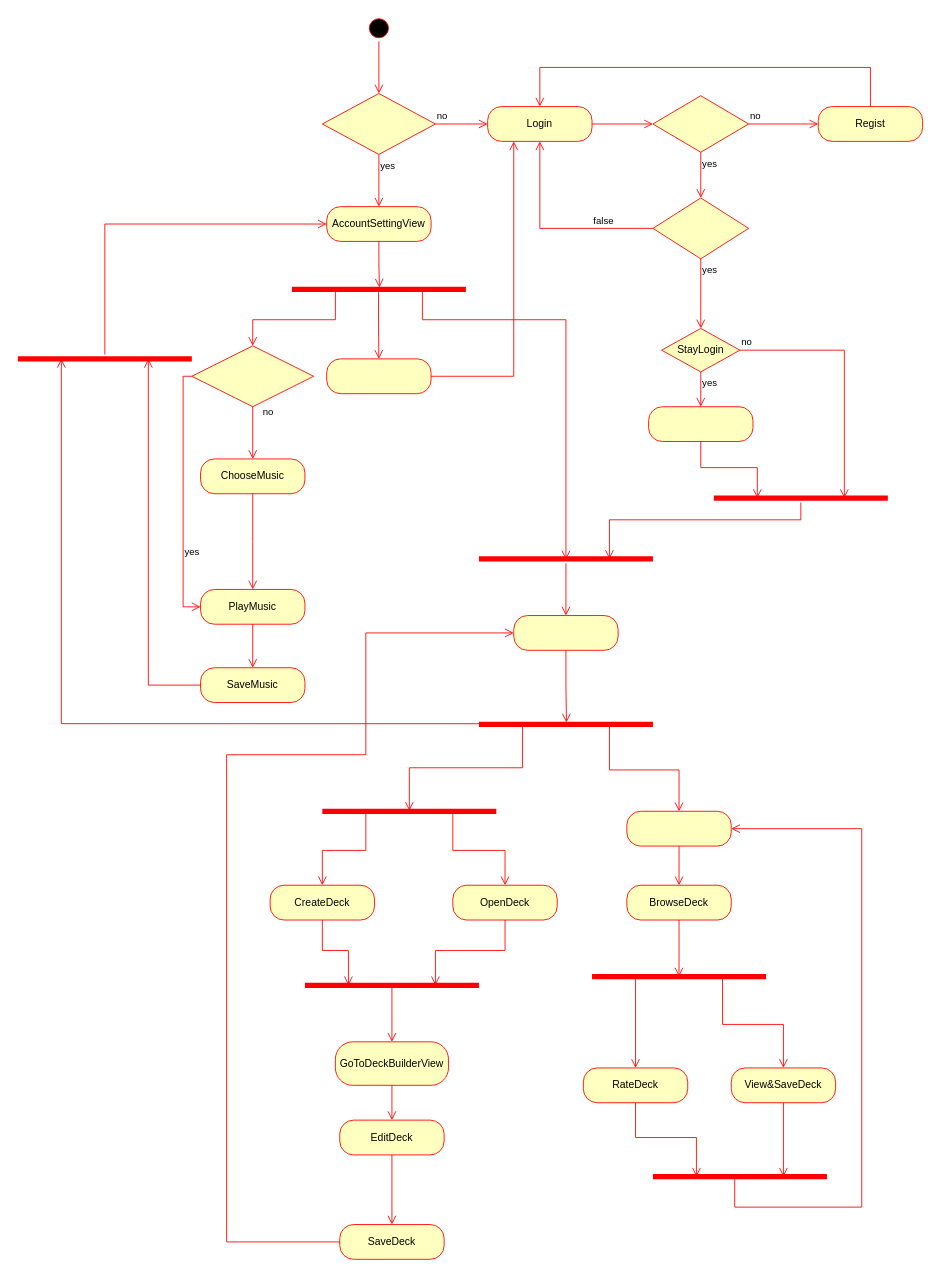
The diagram is 938 pixels wide and 1275 high, and some of its shapes have lost their labels. The shapes that lost their labels are listed below. From the top down, each one's centre as x and y in pixels, then its label:
At [378,123]: "isUserStayLoggin".
At [700,123]: "HavingAccount".
At [700,228]: "ValidateLogin".
At [252,376]: "HavingMusicFile".
At [378,376]: "LogOut".
At [700,424]: "SaveUserInfor".
At [565,632]: "GoToMainMenu".
At [678,828]: "GoToSharingView".
